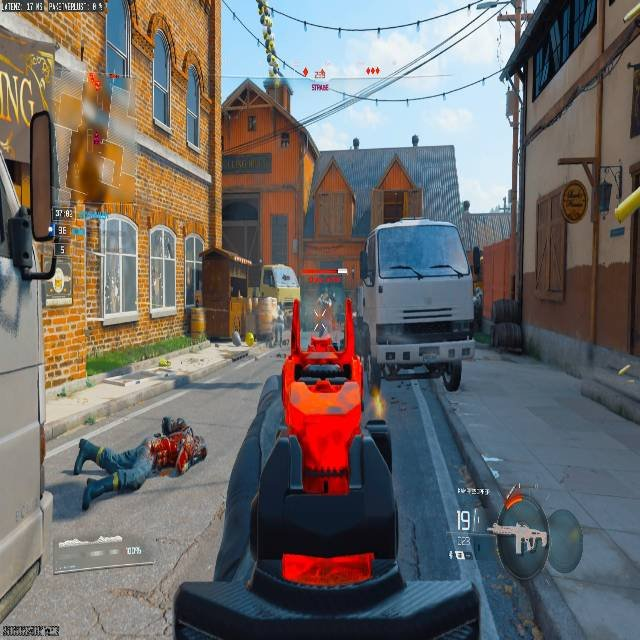player: (311, 289, 335, 337)
